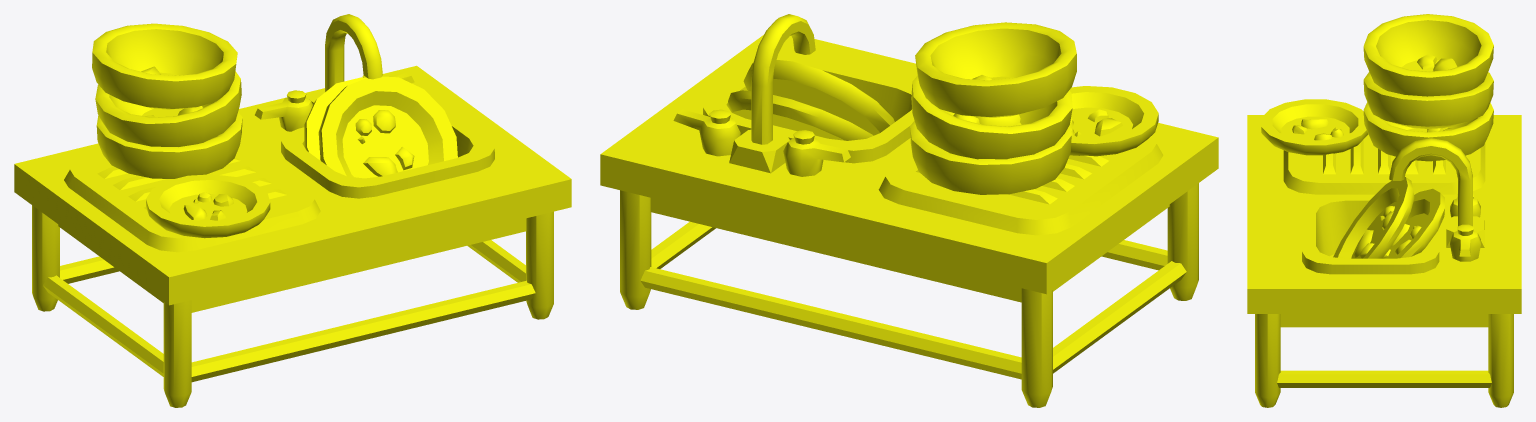
Rendered from kitchentable_sink_large_decorated.gltf.
The picture shows the model from 3 angles, left to right: view 1: azimuth 30°, elevation 25°; view 2: azimuth 150°, elevation 25°; view 3: azimuth 270°, elevation 25°; orthographic projection. The views are drawn at different scales.
Parts seen in each view (by area): view 1: kitchentable_sink_large_decorated; view 2: kitchentable_sink_large_decorated; view 3: kitchentable_sink_large_decorated.
Part boxes in pixels (box(x1,y1,x2,y2)): kitchentable_sink_large_decorated: box(14, 14, 571, 407); kitchentable_sink_large_decorated: box(600, 14, 1218, 407); kitchentable_sink_large_decorated: box(1247, 14, 1521, 407).
Bounding box in the file's own units: 3 × 1.95 × 2.
Materials: 1 (1 with a texture image).
